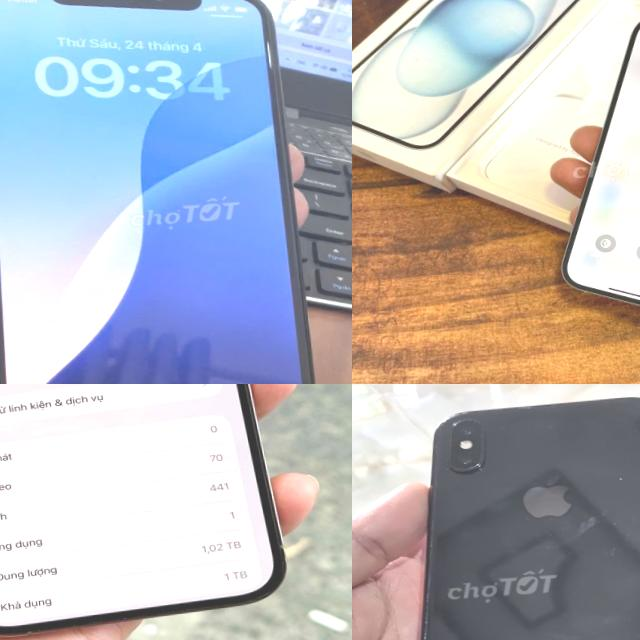scratch: (578, 501, 640, 640), (402, 533, 450, 640), (588, 461, 636, 492), (466, 411, 498, 442), (467, 452, 498, 480), (532, 413, 562, 432)
